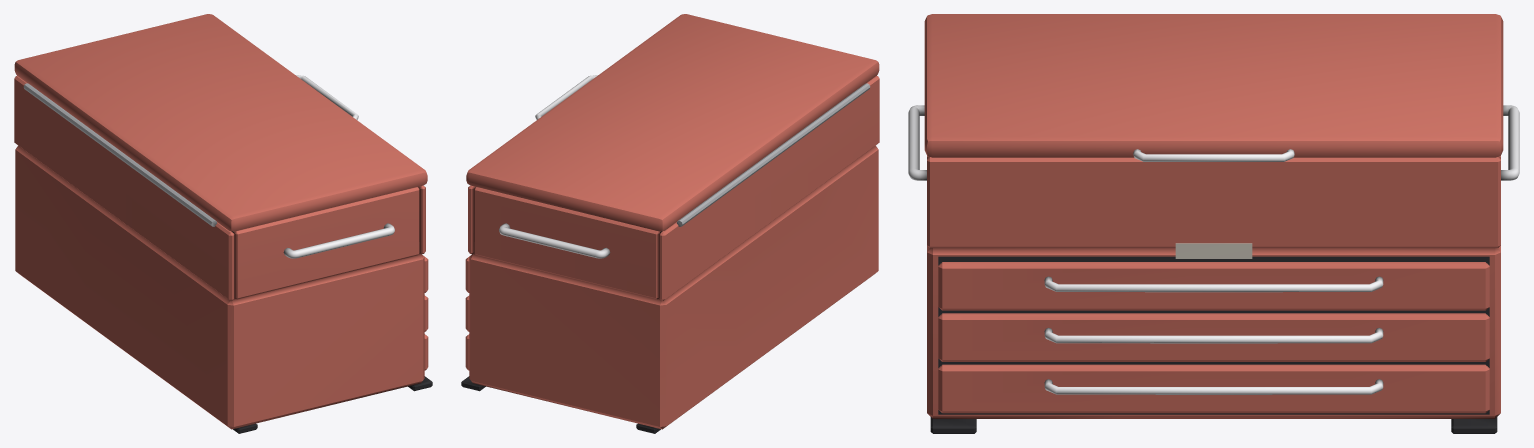
File: toolbox_top.glb
The picture shows the model from 3 angles, left to right: view 1: azimuth 30°, elevation 25°; view 2: azimuth 150°, elevation 25°; view 3: azimuth 270°, elevation 25°; orthographic projection. The views are drawn at different scales.
Parts seen in each view (by area): view 1: PART, LID; view 2: PART, LID; view 3: LID, PART, DRAWER_3, DRAWER_1, DRAWER_2.
Boxes of the visible parts, <box> form: PART: <box>14,76,432,433</box>; LID: <box>14,14,427,231</box>; PART: <box>461,76,879,433</box>; LID: <box>466,14,879,231</box>; LID: <box>924,14,1503,161</box>; PART: <box>908,105,1519,433</box>; DRAWER_3: <box>938,364,1489,413</box>; DRAWER_1: <box>938,262,1489,310</box>; DRAWER_2: <box>938,313,1489,361</box>.
Size of the model in its own units: 0.4465 by 0.42 by 0.799.
